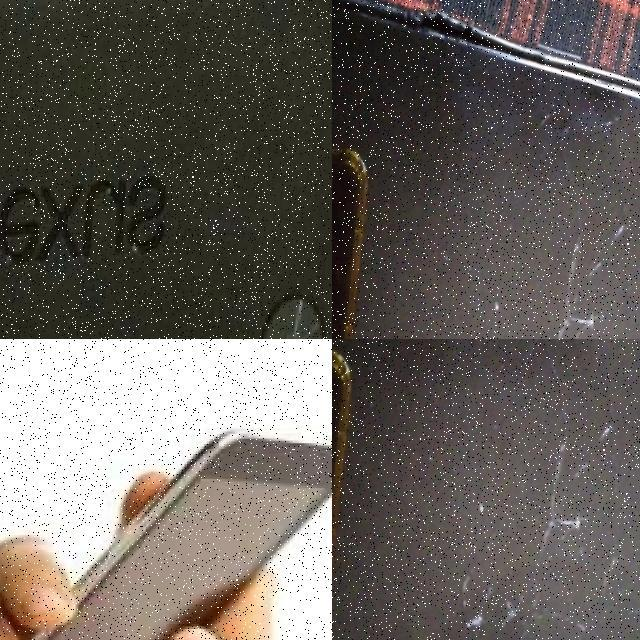screen crack: (452, 382, 640, 640), (462, 119, 640, 339)
